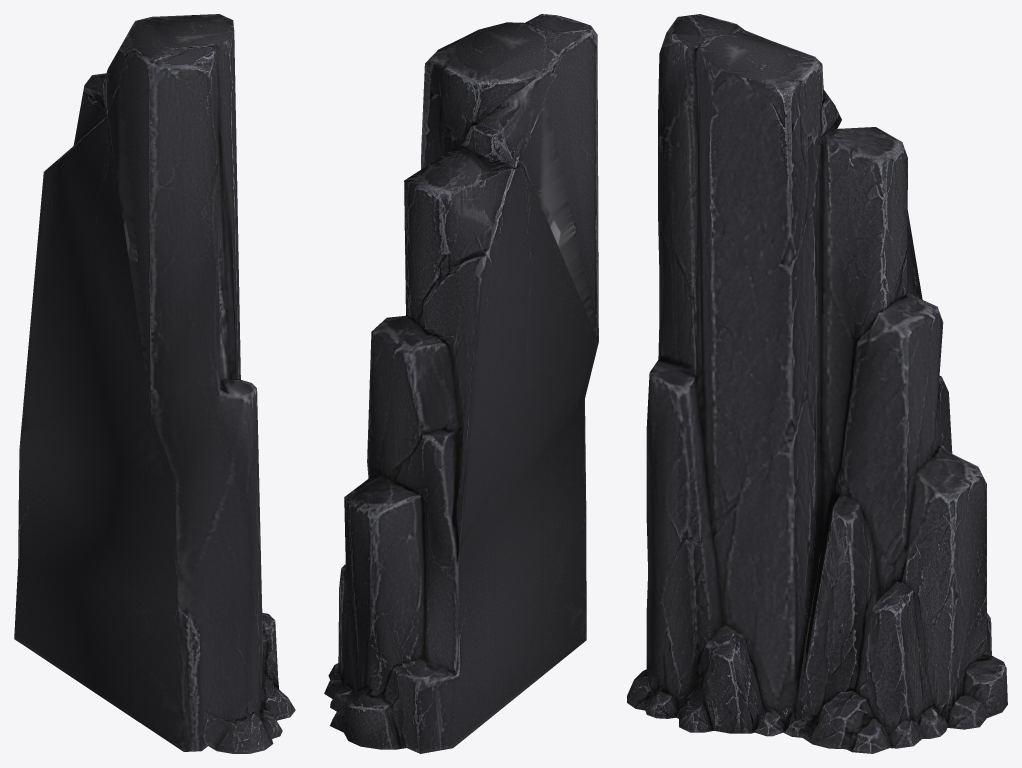
File: tripo_convert_c989f29b-5be6-464a-806d-4f0ccca34d11.fbx
The picture shows the model from 3 angles, left to right: view 1: azimuth 30°, elevation 25°; view 2: azimuth 150°, elevation 25°; view 3: azimuth 270°, elevation 25°; orthographic projection. The views are drawn at different scales.
Visible parts, largest first — view 1: tripo_node_c989f29b; view 2: tripo_node_c989f29b; view 3: tripo_node_c989f29b.
Boxes of the visible parts, x1,y1,x2,y2 form: tripo_node_c989f29b: (14, 14, 295, 753); tripo_node_c989f29b: (324, 14, 598, 753); tripo_node_c989f29b: (627, 14, 1007, 753).
Size of the model in its own units: 0.2988 by 0.998 by 0.5293.
1 material, 1 textured.
